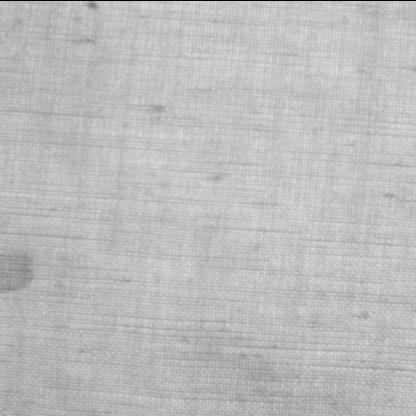oil spot: (1, 248, 38, 292)
